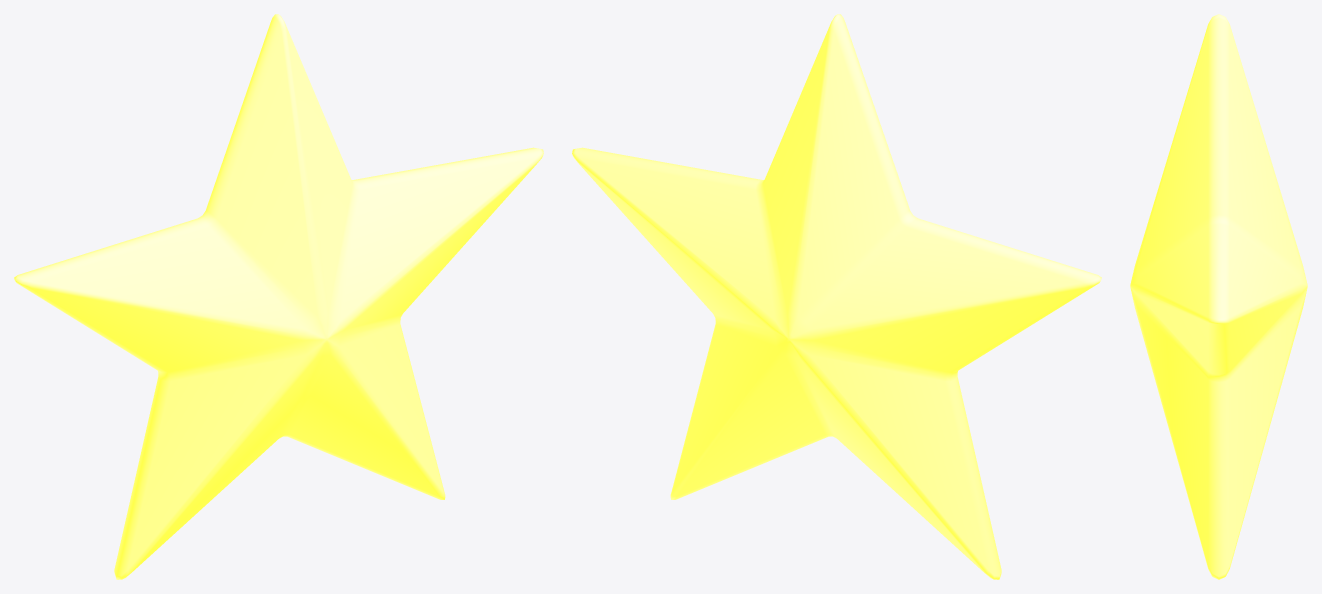
Rendered from STAR.fbx.
The picture shows the model from 3 angles, left to right: view 1: azimuth 30°, elevation 25°; view 2: azimuth 150°, elevation 25°; view 3: azimuth 270°, elevation 25°; orthographic projection. The views are drawn at different scales.
Parts seen in each view (by area): view 1: STAR; view 2: STAR; view 3: STAR.
Part boxes in pixels (x1,y1,x2,y2): STAR: [14, 14, 543, 579]; STAR: [572, 14, 1101, 579]; STAR: [1130, 14, 1307, 579].
Size of the model in its own units: 44.57 by 42.43 by 13.85.
